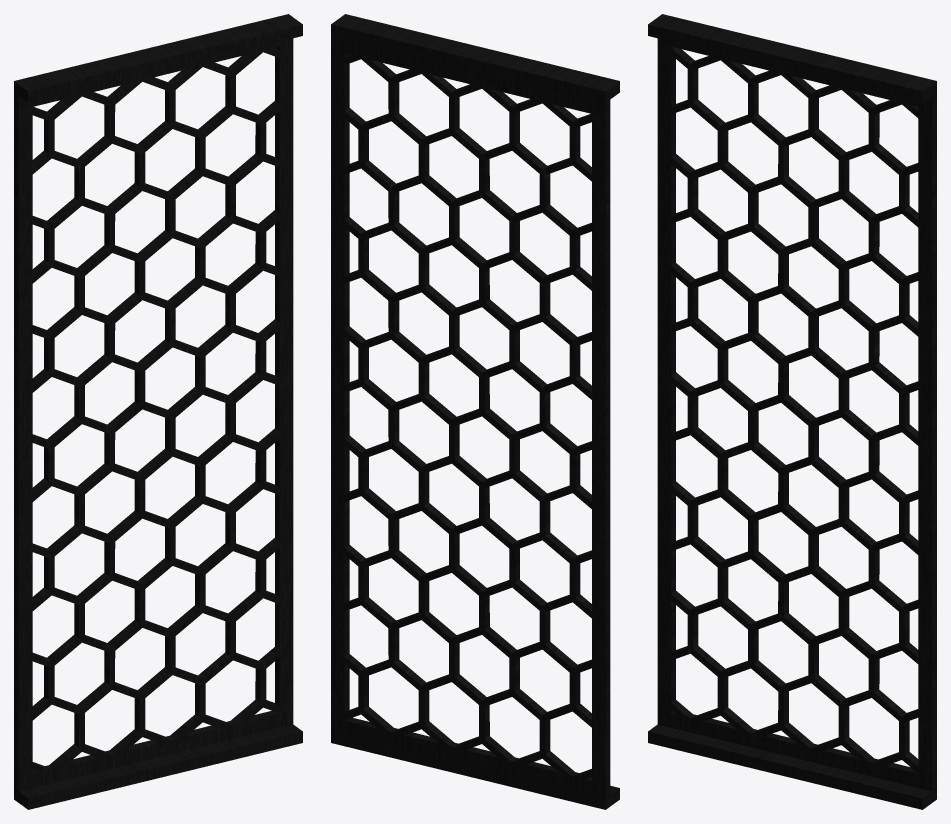
Rendered from hex fence.glb.
3 renders of one model, left to right at view 1: azimuth 30°, elevation 25°; view 2: azimuth 150°, elevation 25°; view 3: azimuth 330°, elevation 25°, orthographic.
Visible parts, largest first — view 1: Object.1; view 2: Object.1; view 3: Object.1.
Part boxes in pixels (x1,y1,x2,y2): Object.1: (14, 14, 302, 809); Object.1: (331, 14, 619, 809); Object.1: (648, 14, 936, 809).
Bounding box in the file's own units: 50 × 125 × 4.5.
1 material, 1 textured.
